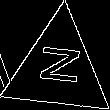N_W: (33, 46, 84, 92)
